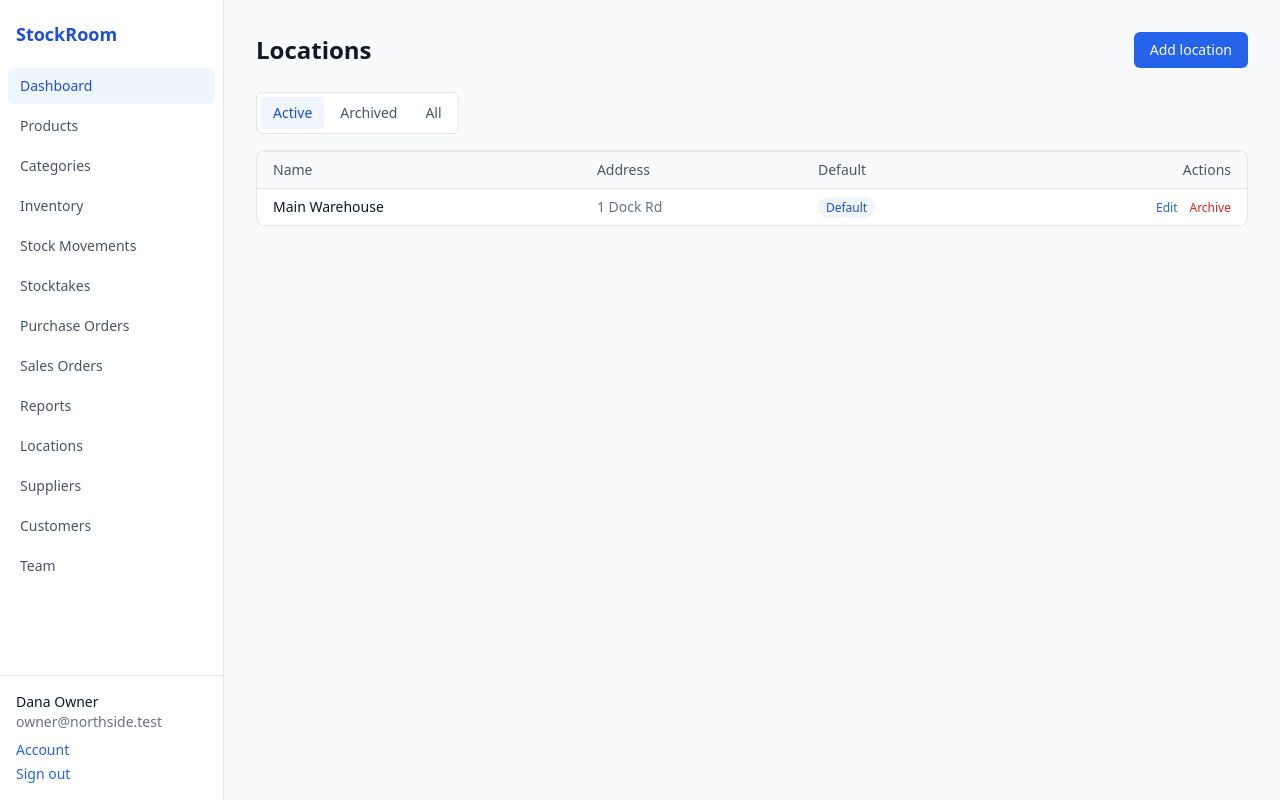
Test: LocationsPage list › says the archived tab is empty rather than the account
This screenshot has width=1280, height=800.
Expected: the text "Main Warehouse" is shown, [257,188,581,225]
Step 1. Click the button "Archived" → (369, 113), box [328,97,409,129]
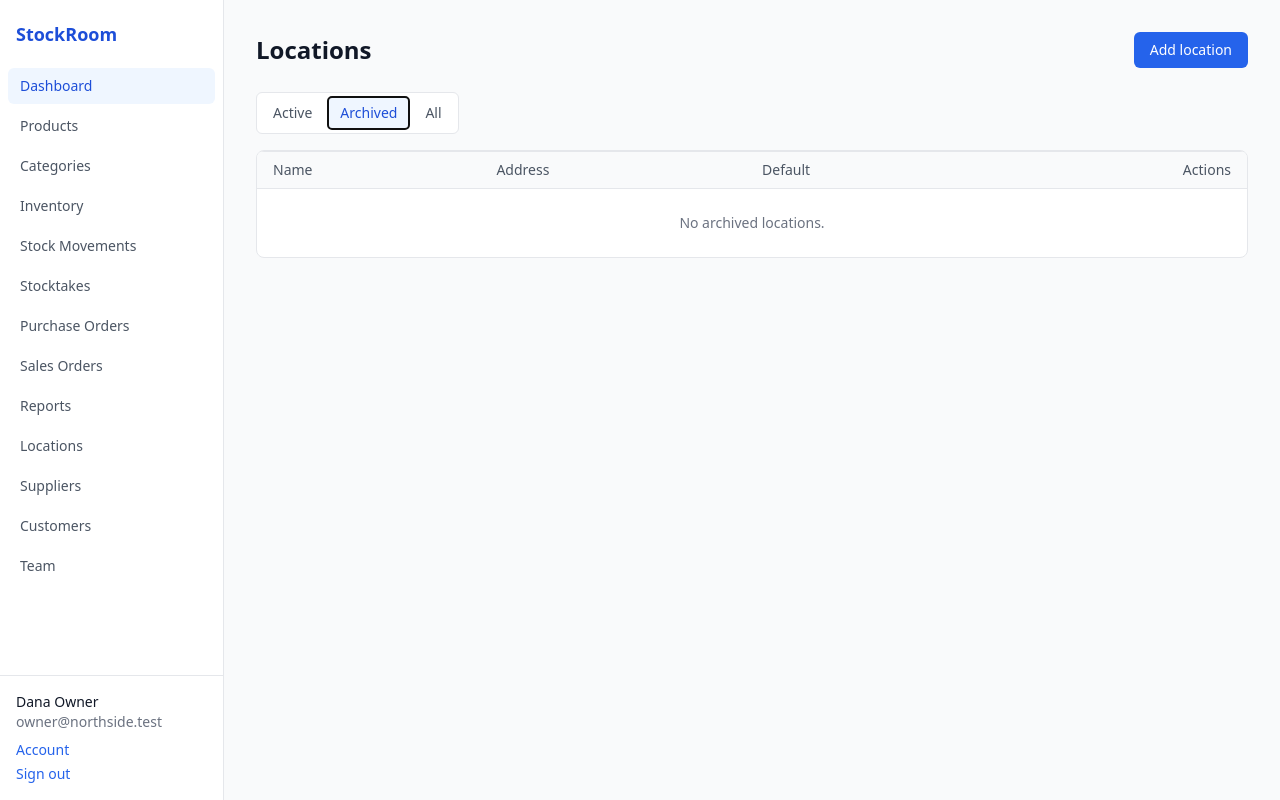
Result: the text "No archived locations." is shown at [257,188,1247,257]
